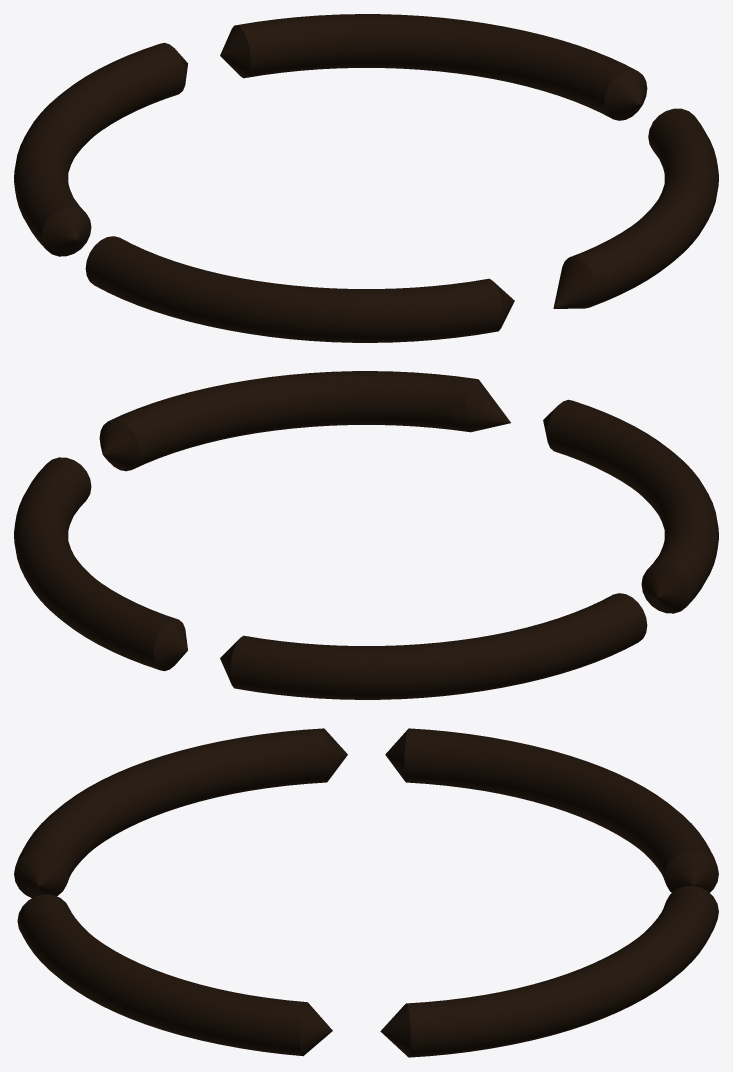
File: Ring16.gltf
3 views of the same model, one above another, from view 1: azimuth 30°, elevation 25°; view 2: azimuth 150°, elevation 25°; view 3: azimuth 270°, elevation 25° (orthographic).
Visible parts, largest first — view 1: Object 5; view 2: Object 5; view 3: Object 5.
Part boxes in pixels (x1,y1,x2,y2): Object 5: (14,14,718,342); Object 5: (14,371,718,699); Object 5: (14,728,718,1057).
Size of the model in its own units: 0.0645 by 0.005 by 0.0645.
Materials: 1 (1 with a texture image).
